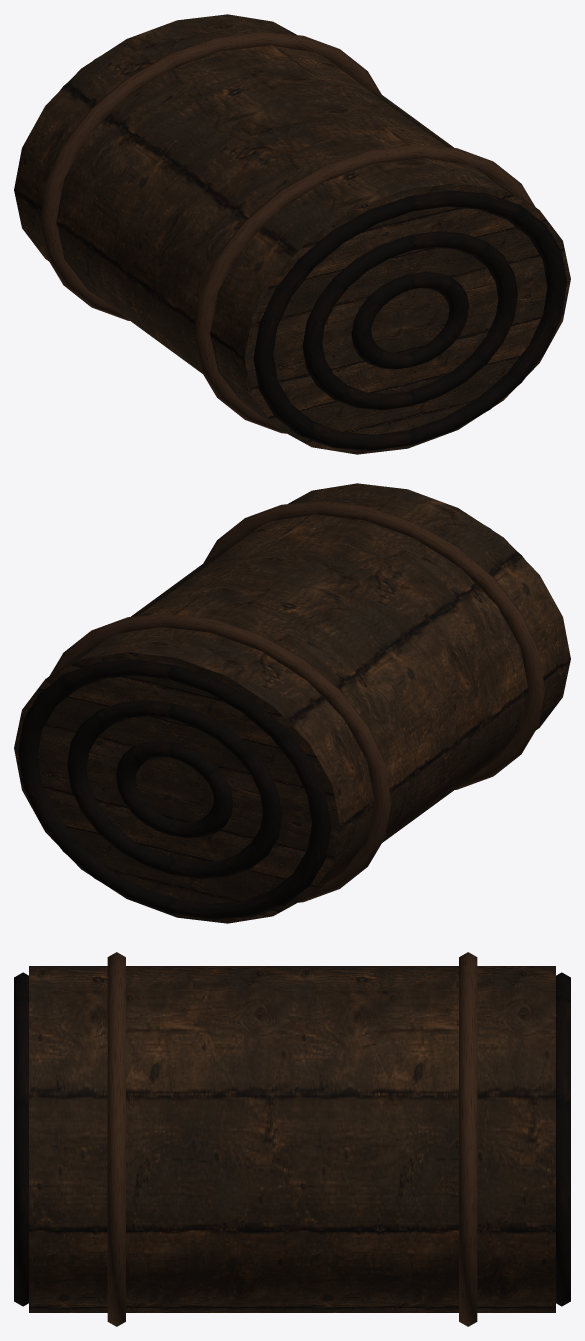
3 renders of one model, top to bottom at view 1: azimuth 30°, elevation 25°; view 2: azimuth 150°, elevation 25°; view 3: azimuth 270°, elevation 25°, orthographic. The views are drawn at different scales.
Visible parts, largest first — view 1: timber-0; view 2: timber-0; view 3: timber-0.
Part boxes in pixels (<box>): timber-0: <box>14,14,570,454</box>; timber-0: <box>14,483,570,923</box>; timber-0: <box>14,952,570,1326</box>.
Bounding box in the file's own units: 0.25 × 0.19 × 0.3.
Materials: 3 (3 with a texture image).
